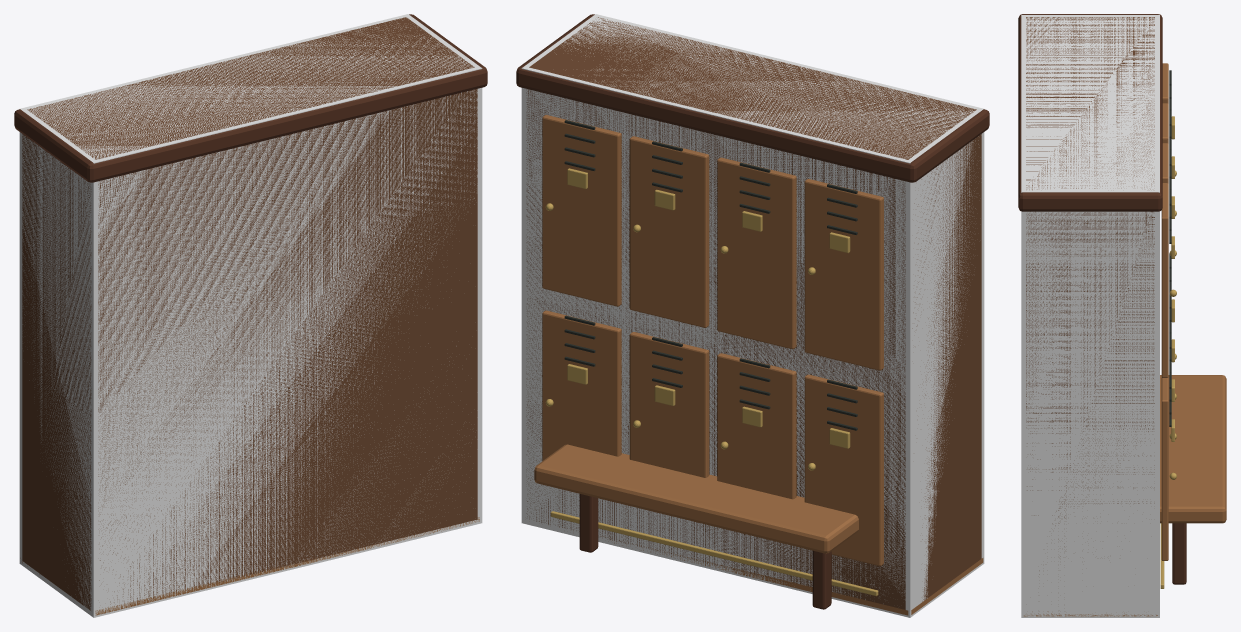
File: executive.glb
3 renders of one model, left to right at view 1: azimuth 30°, elevation 25°; view 2: azimuth 150°, elevation 25°; view 3: azimuth 270°, elevation 25°, orthographic. The views are drawn at different scales.
Parts seen in each view (by area): view 1: Lockers_Carcass.004, COL_LOCKER_UNITS_EXECUTIVE, Locker_Crown.001, Lockers_SteppedPlinth; view 2: COL_LOCKER_UNITS_EXECUTIVE, Lockers_Carcass.004, Locker_Bench, Locker_Door_1_2.002, Locker_Door_1_1.002, Locker_Door_1_0.002, Locker_Door_1_3.001, Locker_Door_0_0.004, Locker_Door_0_3.001, Locker_Door_0_2.003, Locker_Crown.001, Locker_Door_0_1.004 (+4 smaller); view 3: COL_LOCKER_UNITS_EXECUTIVE, Lockers_Carcass.004, Locker_Bench, Locker_Crown.001, Locker_Door_1_3.001, Locker_Door_0_3.001, Locker_BenchLeg.001.
Boxes of the visible parts, box(x1,y1,x2,y2) form: Lockers_Carcass.004: box(22, 17, 477, 610); COL_LOCKER_UNITS_EXECUTIVE: box(19, 14, 482, 617); Locker_Crown.001: box(14, 14, 487, 182); Lockers_SteppedPlinth: box(20, 517, 479, 615); COL_LOCKER_UNITS_EXECUTIVE: box(521, 14, 984, 617); Lockers_Carcass.004: box(526, 17, 981, 609); Locker_Bench: box(534, 444, 858, 553); Locker_Door_1_2.002: box(629, 136, 709, 327); Locker_Door_1_1.002: box(717, 157, 796, 349); Locker_Door_1_0.002: box(804, 179, 883, 370); Locker_Door_1_3.001: box(542, 115, 621, 306); Locker_Door_0_0.004: box(804, 374, 883, 566); Locker_Door_0_3.001: box(542, 310, 621, 460); Locker_Door_0_2.003: box(629, 332, 709, 477); Locker_Crown.001: box(516, 14, 989, 182); Locker_Door_0_1.004: box(717, 353, 796, 499); COL_LOCKER_UNITS_EXECUTIVE: box(1021, 15, 1159, 617); Lockers_Carcass.004: box(1026, 17, 1154, 574); Locker_Bench: box(1160, 375, 1226, 523); Locker_Crown.001: box(1018, 14, 1162, 211); Locker_Door_1_3.001: box(1161, 183, 1168, 377); Locker_Door_0_3.001: box(1161, 377, 1168, 560); Locker_BenchLeg.001: box(1172, 523, 1186, 584).
Bounding box in the file's own units: 2.11 × 2.29 × 1.01.
